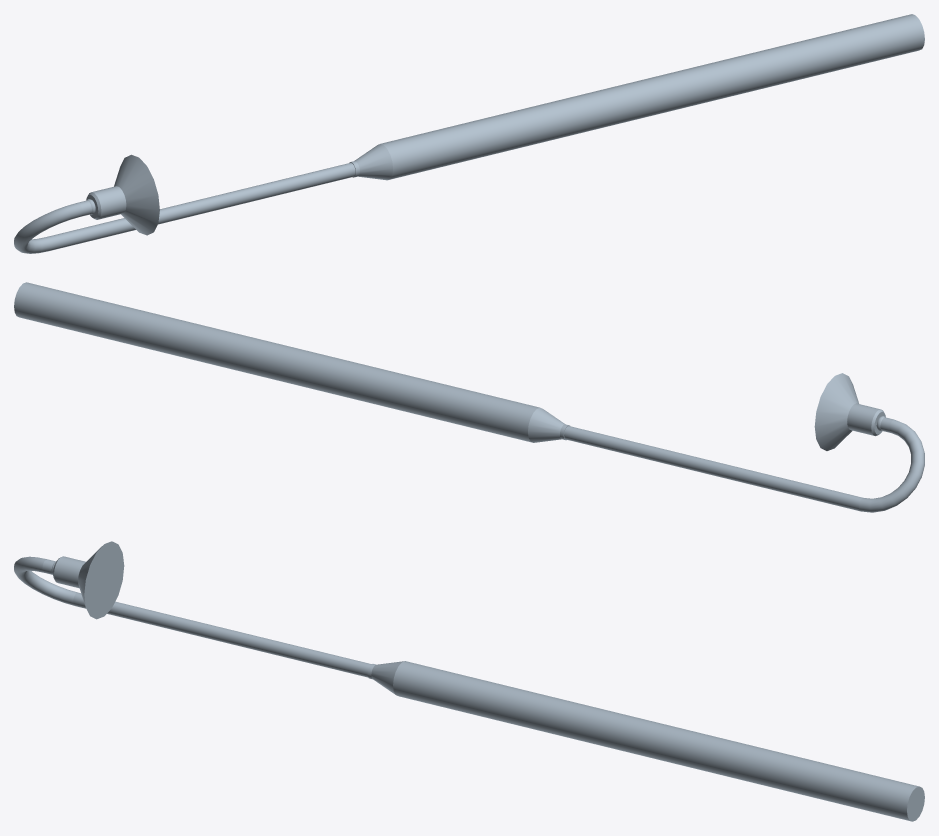
Rendered from lamp.glb.
3 renders of one model, top to bottom at view 1: azimuth 30°, elevation 25°; view 2: azimuth 150°, elevation 25°; view 3: azimuth 330°, elevation 25°, orthographic. The views are drawn at different scales.
Visible parts, largest first — view 1: lamp; view 2: lamp; view 3: lamp.
Boxes of the visible parts, x1,y1,x2,y2 form: lamp: (14,14,924,253); lamp: (14,282,924,512); lamp: (14,541,924,821).
Size of what is drawn, in the model's own units: 22.66 by 2.66 by 2.66.
